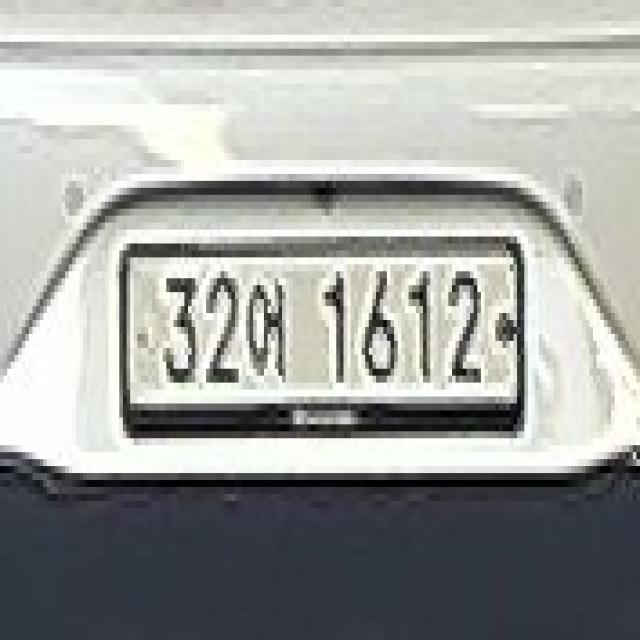1: (322, 264, 347, 390), (408, 271, 434, 383)
2: (444, 264, 484, 390), (202, 271, 238, 390)
3: (159, 271, 199, 390)
6: (362, 271, 394, 383)
eo: (246, 271, 286, 390)
license_plate: (123, 251, 521, 404)
